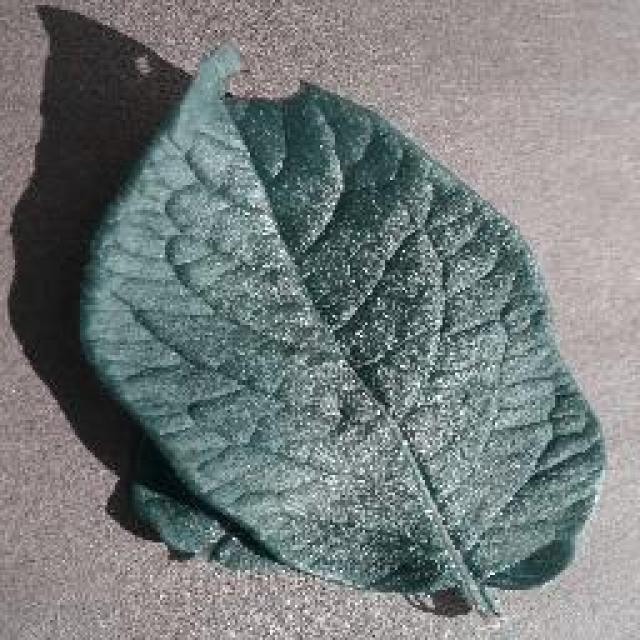Potato___healthy: (76, 41, 612, 629)
